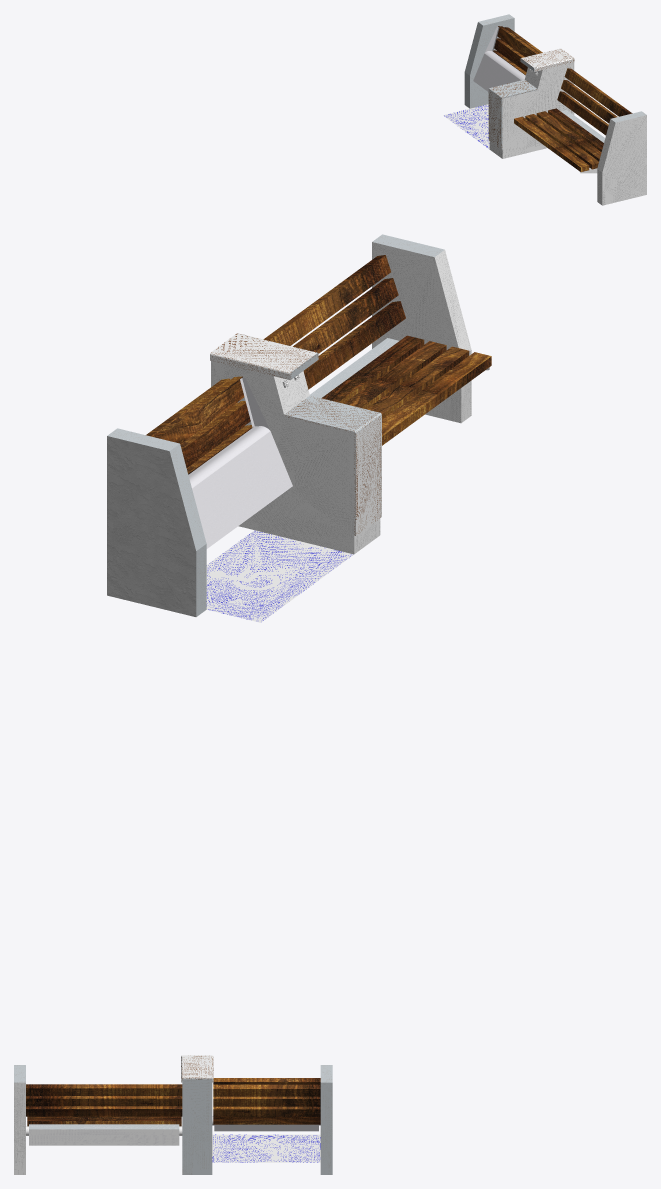
Rendered from Banca2.glb.
3 views of the same model, one above another, from view 1: azimuth 30°, elevation 25°; view 2: azimuth 150°, elevation 25°; view 3: azimuth 270°, elevation 25° (orthographic). The views are drawn at different scales.
Visible parts, largest first — view 1: SketchUp.001, SketchUp.025, SketchUp.027, SketchUp.034, SketchUp.029, SketchUp.059, SketchUp.010, SketchUp.019, SketchUp.012, SketchUp.033, SketchUp.014, SketchUp.018 (+4 smaller); view 2: SketchUp.025, SketchUp.028, SketchUp.001, SketchUp.034, SketchUp.059, SketchUp.029, SketchUp.019, SketchUp.033, SketchUp.010, SketchUp.027, SketchUp.017, SketchUp.018 (+6 smaller); view 3: SketchUp.002, SketchUp.059, SketchUp.025, SketchUp.019, SketchUp.017, SketchUp.018, SketchUp.027, SketchUp.016, SketchUp.036, SketchUp.001, SketchUp.041, SketchUp.049 (+4 smaller).
Boxes of the visible parts, x1,y1,x2,y2 form: SketchUp.001: (597,111,646,205); SketchUp.025: (489,59,574,158); SketchUp.027: (464,14,514,108); SketchUp.034: (473,26,525,91); SketchUp.029: (488,79,537,149); SketchUp.059: (443,104,489,149); SketchUp.010: (514,116,589,171); SketchUp.019: (564,68,632,116); SketchUp.012: (525,114,598,169); SketchUp.033: (520,48,574,71); SketchUp.014: (536,111,601,160); SketchUp.018: (561,80,617,123); SketchUp.025: (211,355,380,554); SketchUp.028: (107,436,196,616); SketchUp.001: (372,234,471,423); SketchUp.034: (188,377,292,548); SketchUp.059: (206,530,353,622); SketchUp.029: (284,395,381,535); SketchUp.019: (263,255,390,345); SketchUp.033: (210,333,318,380); SketchUp.010: (382,352,491,445); SketchUp.027: (107,428,206,616); SketchUp.017: (303,301,405,389); SketchUp.018: (293,278,398,353); SketchUp.002: (29,1124,179,1145); SketchUp.059: (212,1134,320,1162); SketchUp.025: (182,1079,212,1174); SketchUp.019: (26,1084,182,1095); SketchUp.017: (26,1106,182,1116); SketchUp.018: (26,1096,182,1106); SketchUp.027: (320,1065,332,1174); SketchUp.016: (27,1116,181,1126); SketchUp.036: (213,1084,320,1096); SketchUp.001: (14,1065,25,1174); SketchUp.041: (213,1106,320,1116); SketchUp.049: (213,1096,320,1106).
Bounding box in the file's own units: 3.99 × 0.8864 × 5.26.
Materials: 9 (4 with a texture image).
